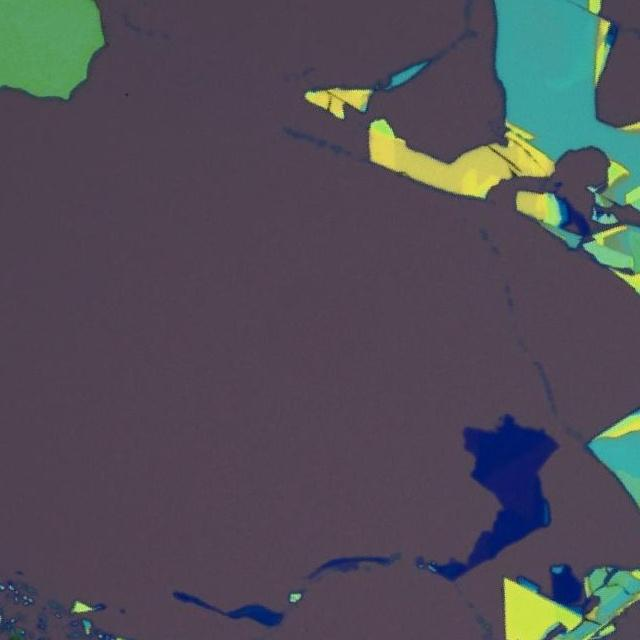monolayer-eWW4: (336, 562, 359, 572)
